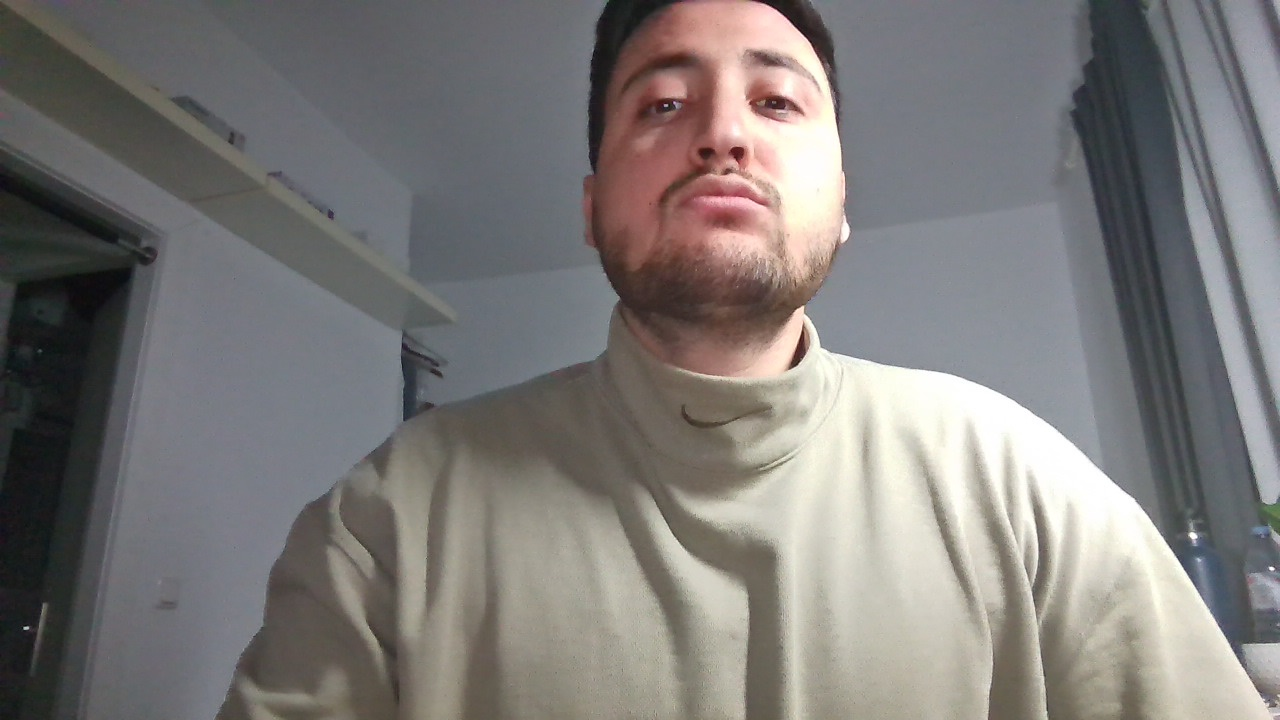Wasserflasche: (1164, 476, 1233, 655)
me: (571, 1, 872, 345)
